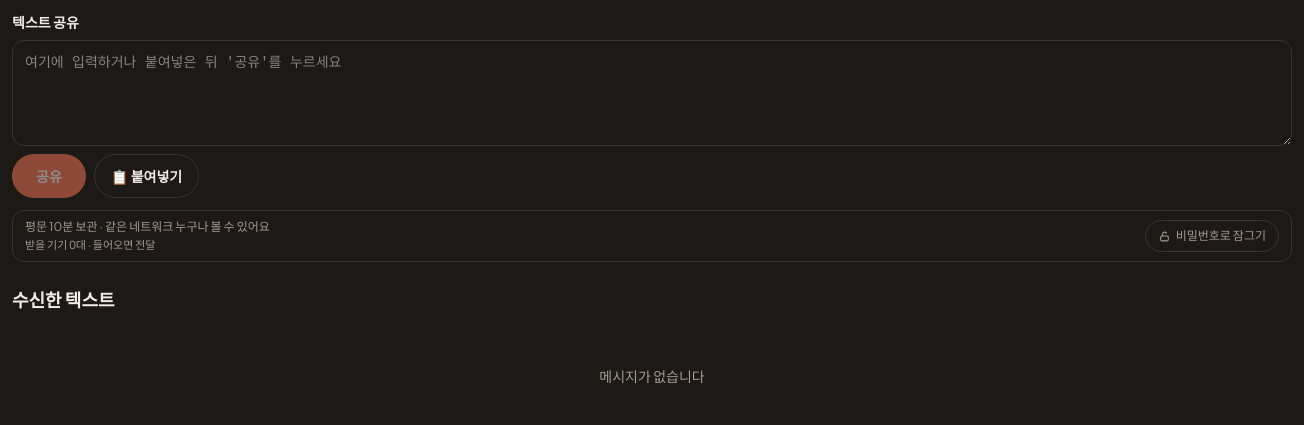
Test case: TextShareBox 보관 방식·받는 기기 수 안내 › 보낸 직후 성공 문장은 화면에 고정하지 않고(보조기술용으로만) 실패는 보인다
Step 1. Type "hi" into the text box with test id "text-input" → point(652, 93), box 12,40 -> 1292,146
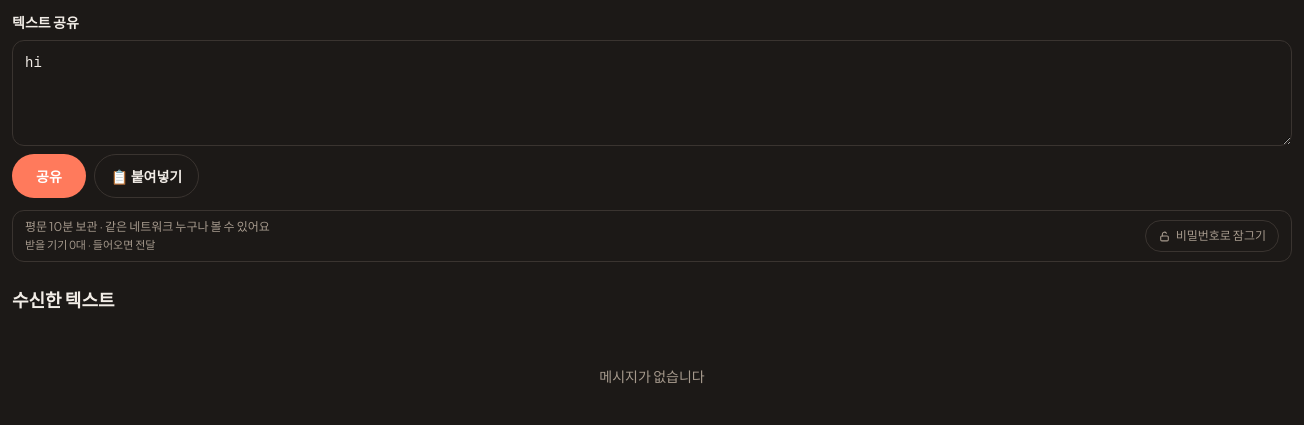
Step 2. Submit the form with test id "text-compose", box 12,12 -> 1292,198
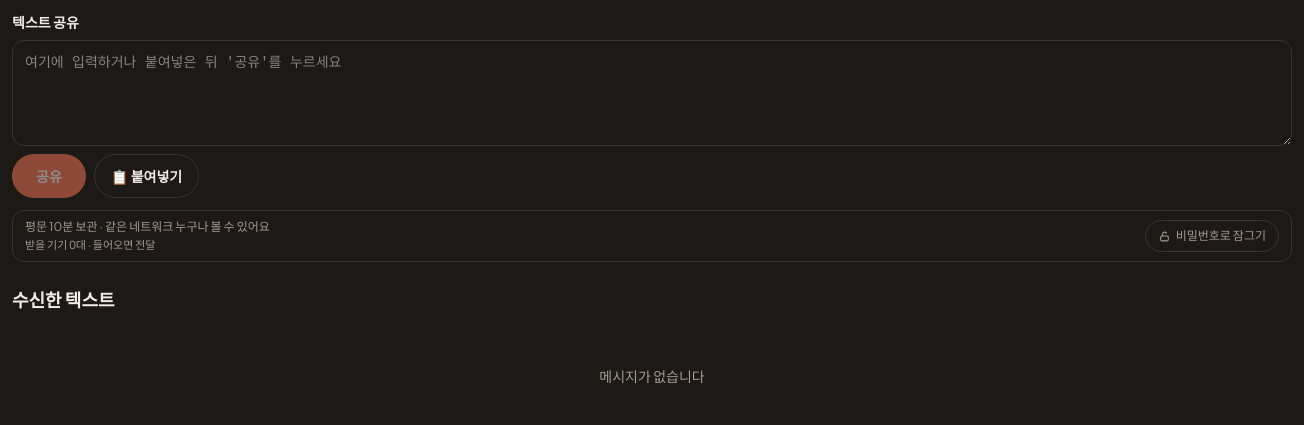
Step 3. Type "again" into the text box with test id "text-input" → point(652, 93), box 12,40 -> 1292,146
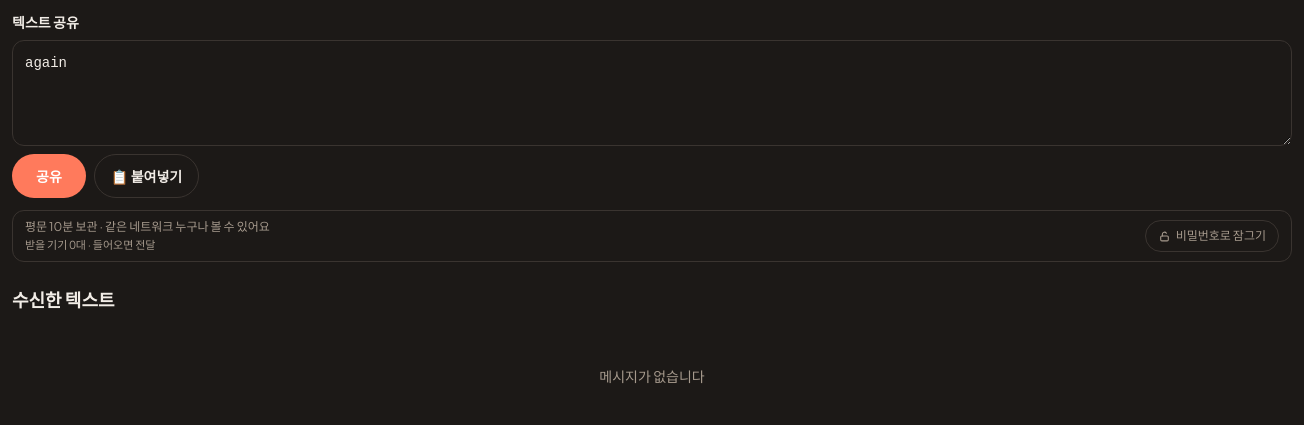
Step 4. Submit the form with test id "text-compose", box 12,12 -> 1292,198
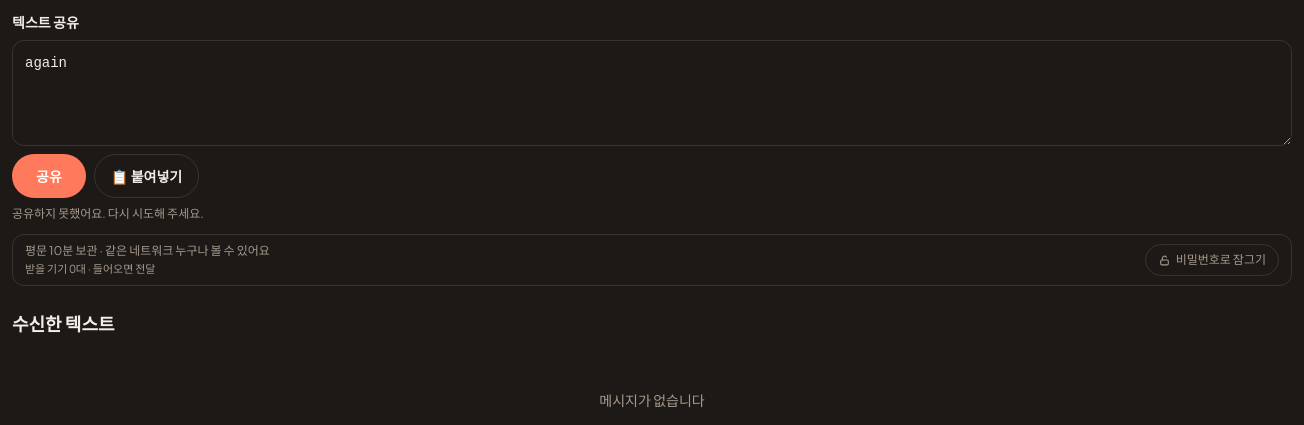
Expected: the message with test id "text-share-result" reads "공유하지 못했어요. 다시 시도해 주세요.", 12,206 -> 204,221
